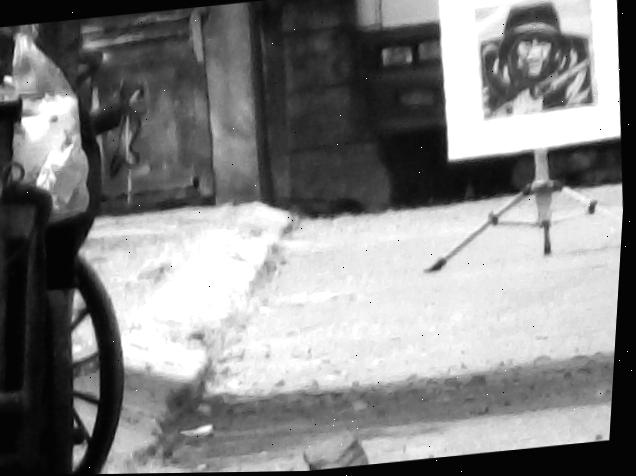chan: (429, 147, 624, 346)
